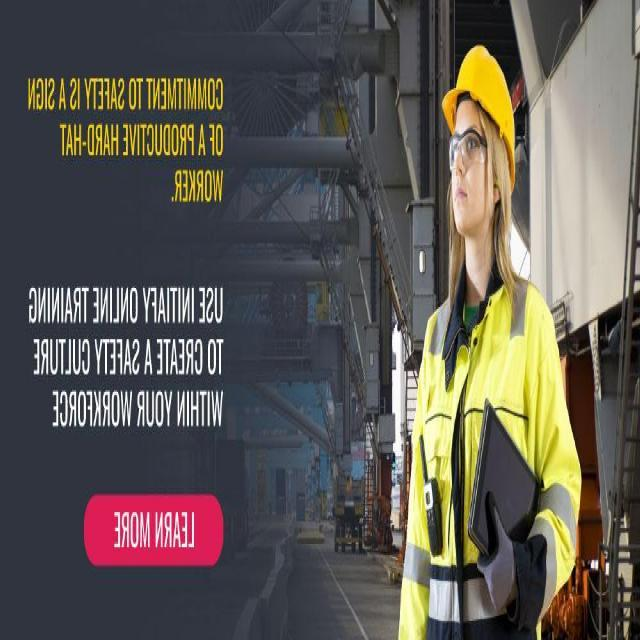reflective_jacket: (392, 269, 580, 639)
safety_helmet: (440, 35, 520, 161)
